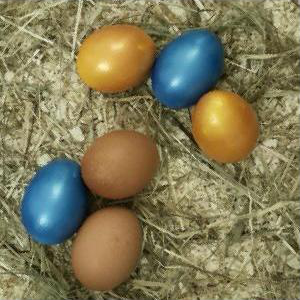egg: (70, 206, 144, 292), (150, 31, 225, 107), (21, 158, 86, 245), (77, 25, 155, 95), (80, 131, 159, 200), (190, 89, 262, 164)
